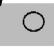no answer: (21, 10, 45, 36)
